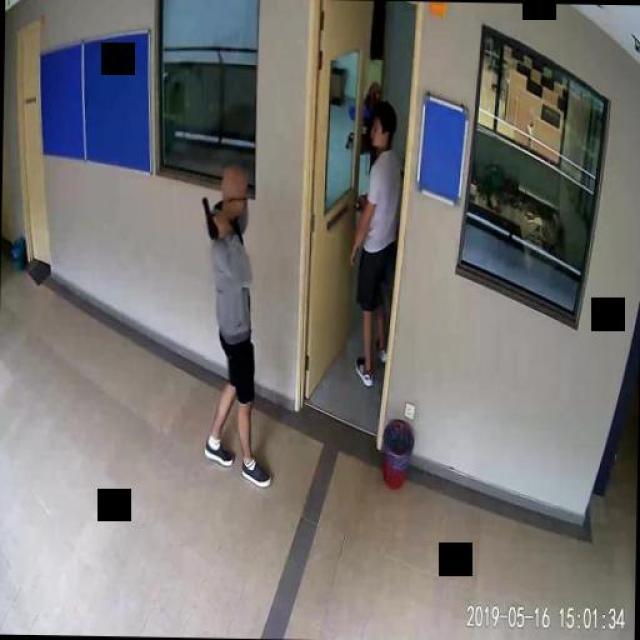gun: (200, 195, 224, 237)
